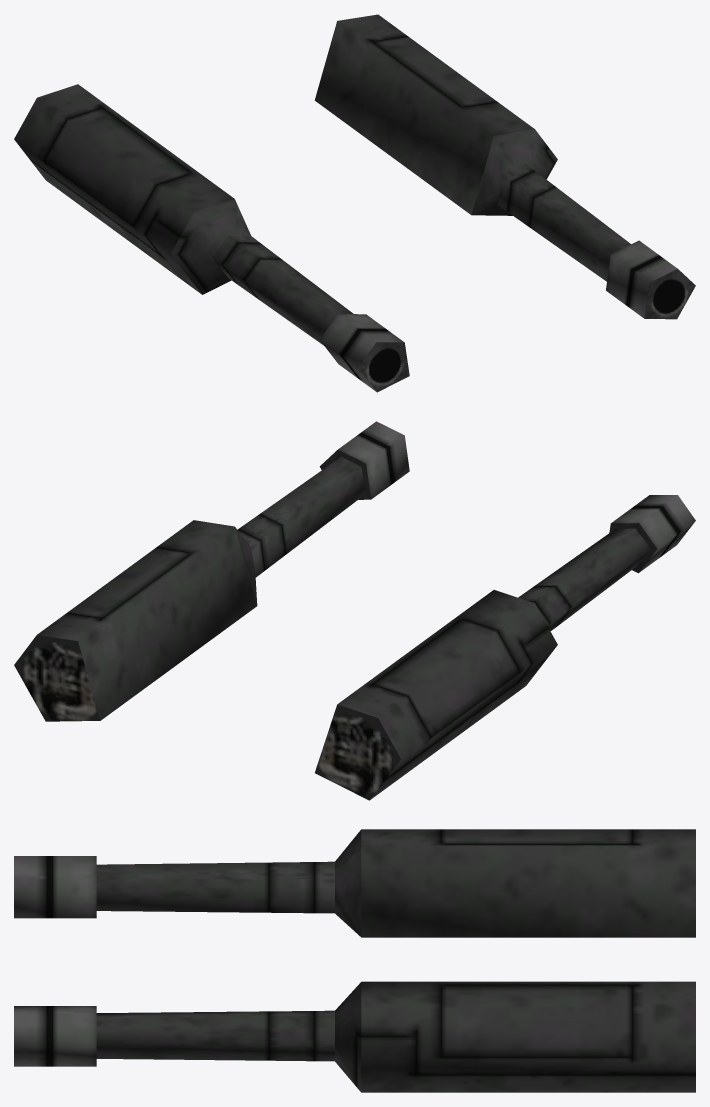
Rendered from bwing_weapon1_s01_l1.fbx.
The picture shows the model from 3 angles, top to bottom: view 1: azimuth 30°, elevation 25°; view 2: azimuth 150°, elevation 25°; view 3: azimuth 270°, elevation 25°; orthographic projection. The views are drawn at different scales.
Parts seen in each view (by area): view 1: mesh_node; view 2: mesh_node; view 3: mesh_node.
Part boxes in pixels (<box>): mesh_node: <box>14,14,695,392</box>; mesh_node: <box>14,421,695,800</box>; mesh_node: <box>14,829,695,1092</box>.
Size of the model in its own units: 0.9723 by 0.2119 by 1.39.
1 material, 1 textured.
